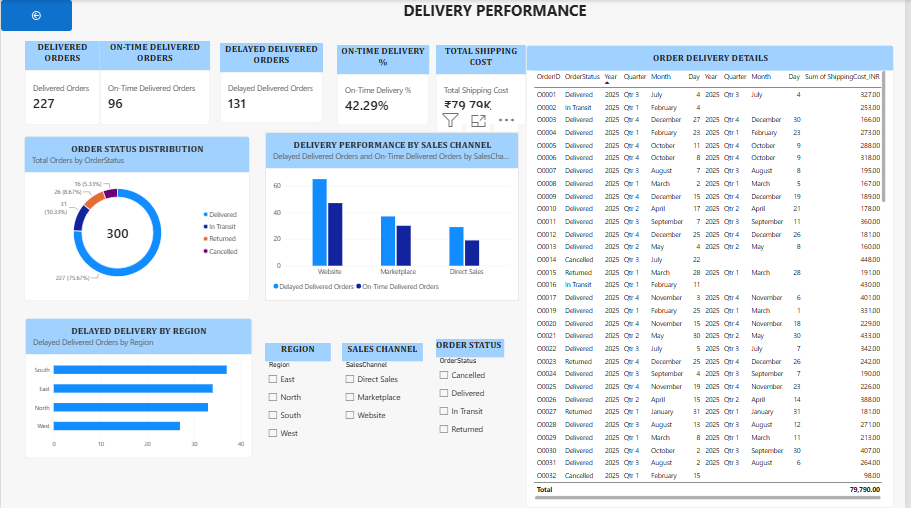

The page's visual inventory and layout, read from the dashboard file:
{"tool":"powerbi","page":{"name":"Delivery performance","canvas":[1920,1080],"ordinal":1},"visuals":[{"type":"textbox","box":[10,0,280,280],"z":0},{"type":"textbox","box":[10,290,280,280],"z":1},{"type":"textbox","box":[10.6,0,278.5,40.4],"z":2},{"type":"textbox","box":[180.7,0,1739.1,65.9],"z":3},{"type":"cardVisual","title":"DELIVERED ORDERS","fields":{"Data":["TABLE.Delivered Orders"]},"box":[51,87.2,159.4,178.6],"z":4},{"type":"cardVisual","title":"ON-TIME DELIVERED ORDERS","fields":{"Data":["TABLE.On-Time Delivered Orders"]},"box":[210.5,87.2,233.9,178.6],"z":5},{"type":"cardVisual","title":"DELAYED DELIVERED ORDERS","fields":{"Data":["TABLE.Delayed Delivered Orders"]},"box":[465.6,91.4,219,170.1],"z":6},{"type":"cardVisual","title":"ON-TIME DELIVERY %","fields":{"Data":["TABLE.On-Time Delivery %"]},"box":[714.3,95.7,195.6,170.1],"z":7},{"type":"cardVisual","title":"TOTAL SHIPPING COST","fields":{"Data":["TABLE.Total Shipping Cost"]},"box":[924.8,95.7,191.3,170.1],"z":8},{"type":"donutChart","title":"ORDER STATUS DISTRIBUTION","fields":{"Category":["FactOrders.OrderStatus"],"Y":["TABLE.Total Orders"]},"box":[48.9,289.1,480.5,350.8],"z":9},{"type":"clusteredBarChart","title":"DELAYED DELIVERY BY REGION","fields":{"Category":["DimCustomer.Region"],"Y":["TABLE.Delayed Delivered Orders"]},"box":[51,676.1,482.6,297.6],"z":10},{"type":"clusteredColumnChart","title":"DELIVERY PERFORMANCE BY SALES CHANNEL","fields":{"Category":["FactOrders.SalesChannel"],"Y":["TABLE.Delayed Delivered Orders","TABLE.On-Time Delivered Orders"]},"box":[561.3,280.6,540,359.3],"z":11},{"type":"tableEx","title":"ORDER DELIVERY DETAILS","fields":{"Values":["FactOrders.OrderID","FactOrders.OrderStatus","FactOrders.PromisedDeliveryDate.Variation.Date Hierarchy.Year","FactOrders.PromisedDeliveryDate.Variation.Date Hierarchy.Quarter","FactOrders.PromisedDeliveryDate.Variation.Date Hierarchy.Month","FactOrders.PromisedDeliveryDate.Variation.Date Hierarchy.Day","FactOrders.ActualDeliveryDate.Variation.Date Hierarchy.Year","FactOrders.ActualDeliveryDate.Variation.Date Hierarchy.Quarter","FactOrders.ActualDeliveryDate.Variation.Date Hierarchy.Month","FactOrders.ActualDeliveryDate.Variation.Date Hierarchy.Day","Sum(FactOrders.ShippingCost_INR)"]},"box":[1116.1,95.7,782.4,984.3],"z":12},{"type":"slicer","title":"REGION","fields":{"Values":["DimCustomer.Region"]},"box":[561.3,729.2,140.3,208.3],"z":13},{"type":"slicer","title":"SALES CHANNEL","fields":{"Values":["FactOrders.SalesChannel"]},"box":[725,729.2,172.2,208.3],"z":14},{"type":"slicer","title":"ORDER STATUS","fields":{"Values":["FactOrders.OrderStatus"]},"box":[924.8,720.7,144.6,208.3],"z":15},{"type":"actionButton","box":[0,0,150.9,65.9],"z":16}]}

Visuals, with their boxes in screenshot pixels (x1, y1, x2, y2), scaled from the page's 1920x1080 canvas onto the 911x508 screenshot:
textbox: select_region(5, 0, 138, 132)
textbox: select_region(5, 136, 138, 268)
textbox: select_region(5, 0, 137, 19)
textbox: select_region(86, 0, 910, 31)
"DELIVERED ORDERS" cardVisual: select_region(24, 41, 100, 125)
"ON-TIME DELIVERED ORDERS" cardVisual: select_region(100, 41, 211, 125)
"DELAYED DELIVERED ORDERS" cardVisual: select_region(221, 43, 325, 123)
"ON-TIME DELIVERY %" cardVisual: select_region(339, 45, 432, 125)
"TOTAL SHIPPING COST" cardVisual: select_region(439, 45, 530, 125)
"ORDER STATUS DISTRIBUTION" donutChart: select_region(23, 136, 251, 301)
"DELAYED DELIVERY BY REGION" clusteredBarChart: select_region(24, 318, 253, 458)
"DELIVERY PERFORMANCE BY SALES CHANNEL" clusteredColumnChart: select_region(266, 132, 523, 301)
"ORDER DELIVERY DETAILS" tableEx: select_region(530, 45, 901, 507)
"REGION" slicer: select_region(266, 343, 333, 441)
"SALES CHANNEL" slicer: select_region(344, 343, 426, 441)
"ORDER STATUS" slicer: select_region(439, 339, 507, 437)
actionButton: select_region(0, 0, 72, 31)
